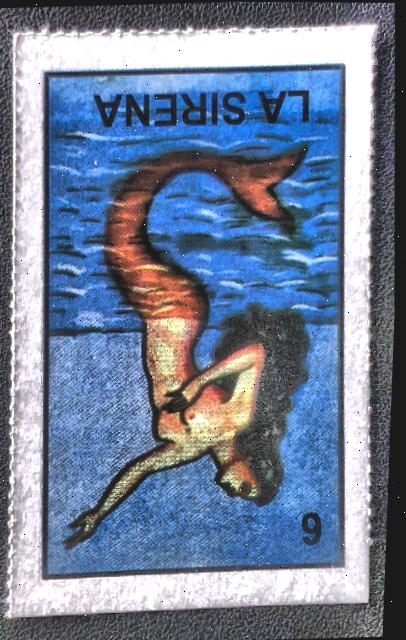La Sirena: (15, 47, 372, 590)
